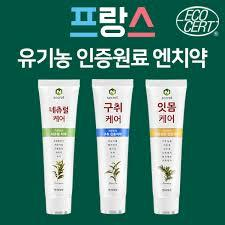toothpaste: (88, 78, 136, 217), (143, 74, 186, 215), (36, 77, 78, 218)
